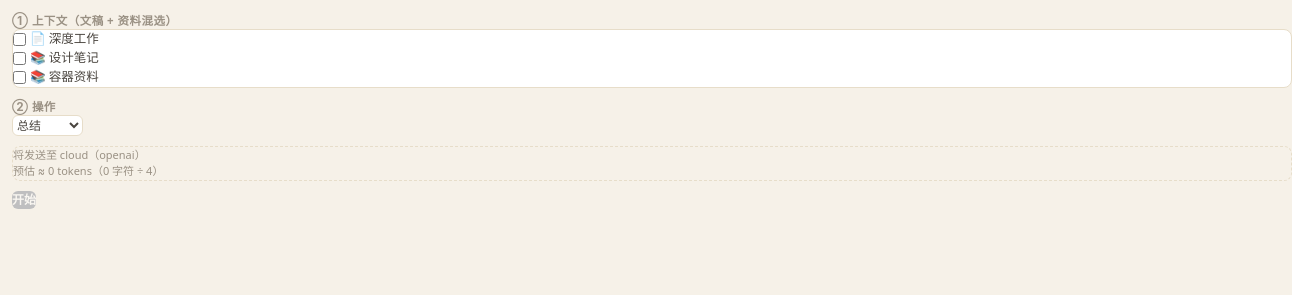
AIWorkbench › 丢弃 → aiDiscardResult；关闭预览（已 done）同样丢弃
Click the checkbox with test id "ctx-post-p1" at (20, 40), box left=13, top=33, right=26, bottom=46
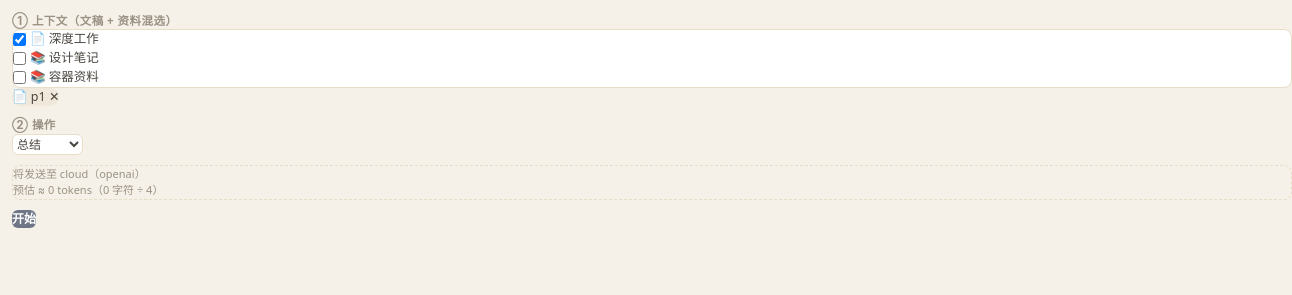
Click the button with test id "ai-start" at (24, 218), box left=12, top=210, right=36, bottom=228
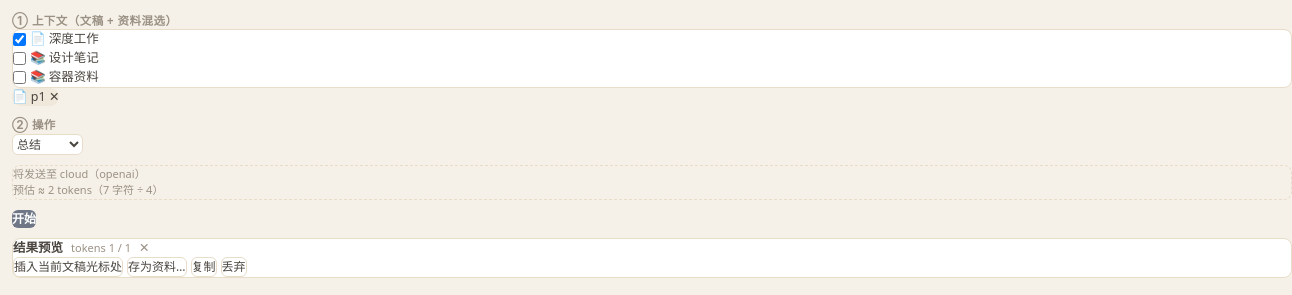
Click the button with test id "ai-discard" at (234, 267), box left=220, top=257, right=246, bottom=277
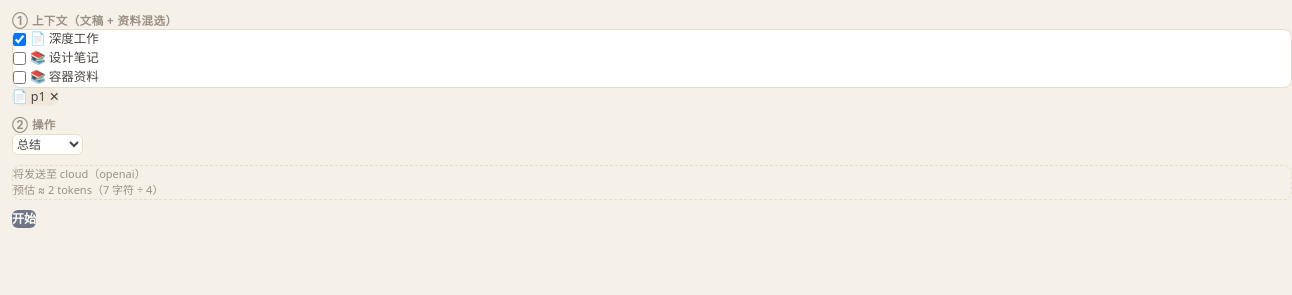
expect the element with test id "ai-preview" is gone: met
